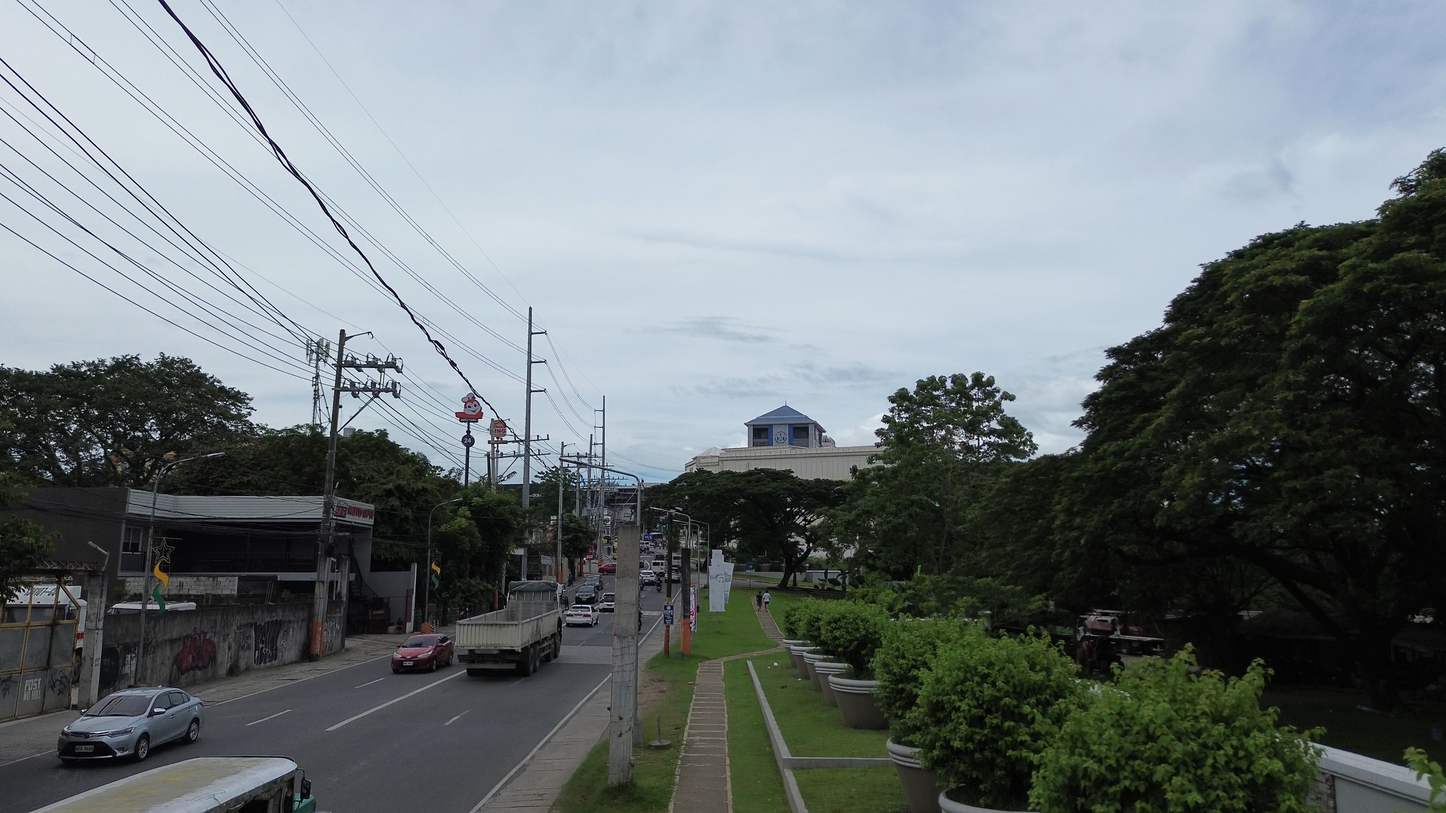car: (57, 687, 204, 763), (392, 633, 454, 673), (564, 604, 600, 626), (639, 570, 657, 584), (598, 563, 616, 574)
truck: (456, 581, 561, 676)
vehicle: (35, 756, 316, 813), (0, 583, 88, 662), (574, 585, 598, 605), (108, 601, 142, 614), (596, 592, 615, 612), (585, 574, 601, 586)
